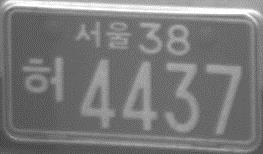3: (163, 60, 202, 133), (138, 20, 162, 55)
4: (78, 56, 118, 129), (121, 59, 160, 131)
7: (203, 60, 244, 138)
8: (165, 23, 191, 57)
서울_O: (73, 18, 133, 53)
허: (21, 53, 66, 104)
